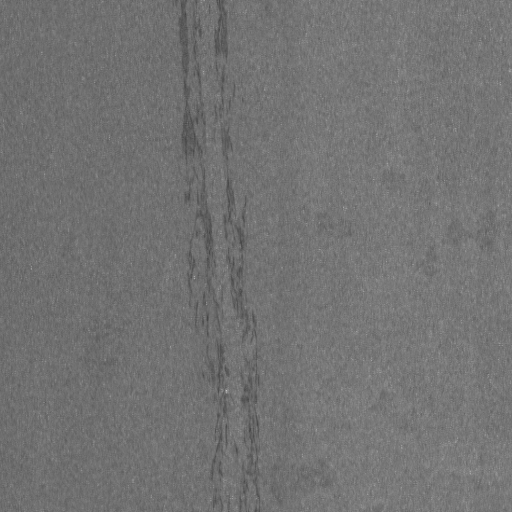zongxianghuashang: (181, 1, 257, 508)
